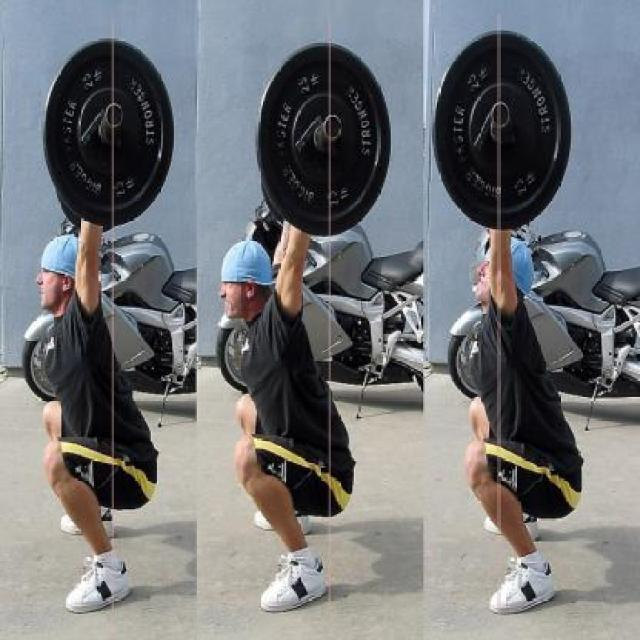barbell: (253, 29, 398, 241), (436, 24, 577, 232), (39, 30, 178, 238)
